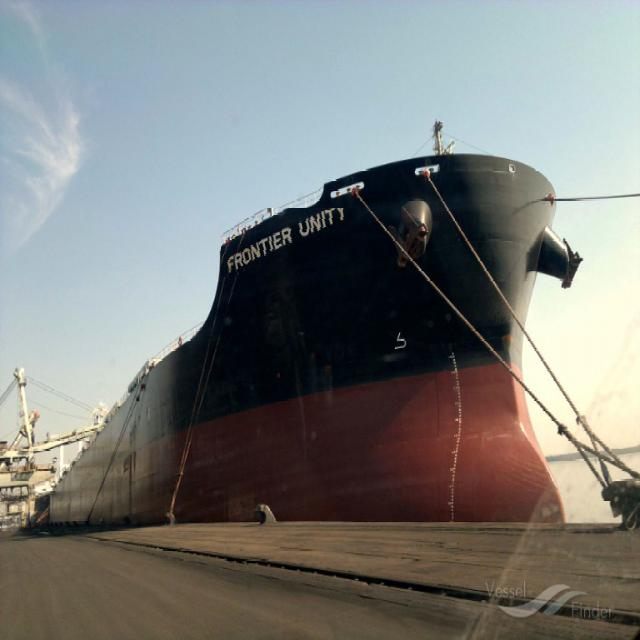OCR: (221, 208, 359, 278)
